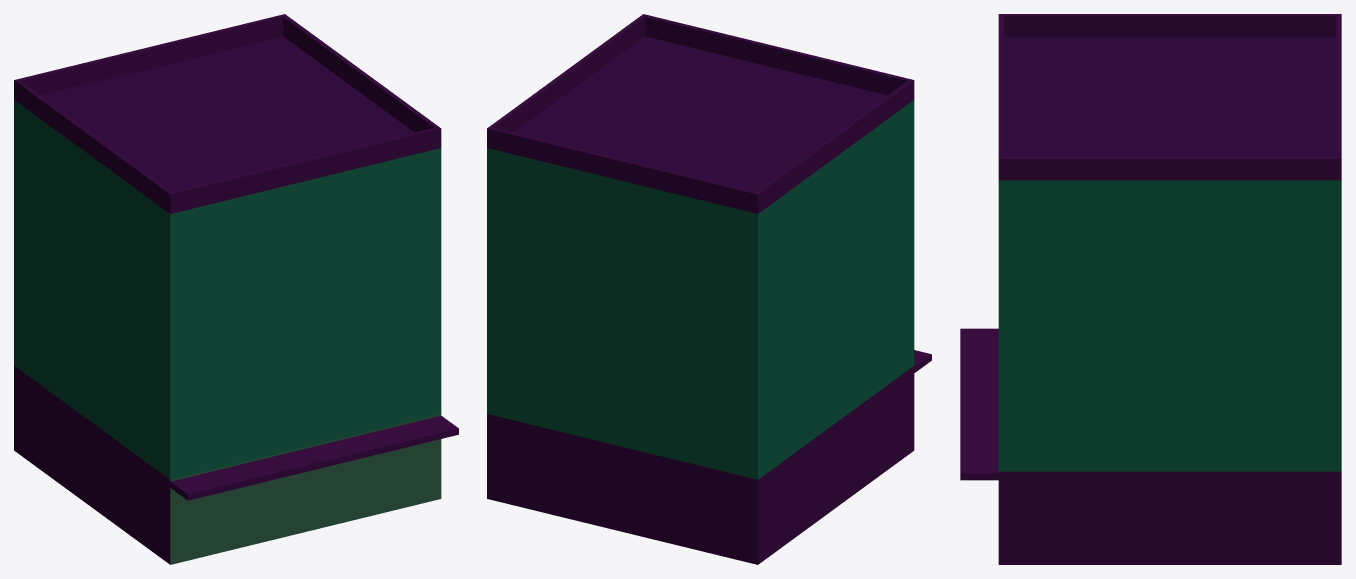
Rendered from fringe_a.glb.
3 views of the same model, side by side, from view 1: azimuth 30°, elevation 25°; view 2: azimuth 150°, elevation 25°; view 3: azimuth 270°, elevation 25° (orthographic). The views are drawn at different scales.
Visible parts, largest first — view 1: fringe_a; view 2: fringe_a; view 3: fringe_a.
Boxes of the visible parts, x1,y1,x2,y2 form: fringe_a: (14,14,458,564); fringe_a: (487,14,931,564); fringe_a: (960,14,1341,564).
Size of the model in its own units: 16 by 20.9 by 17.8.
